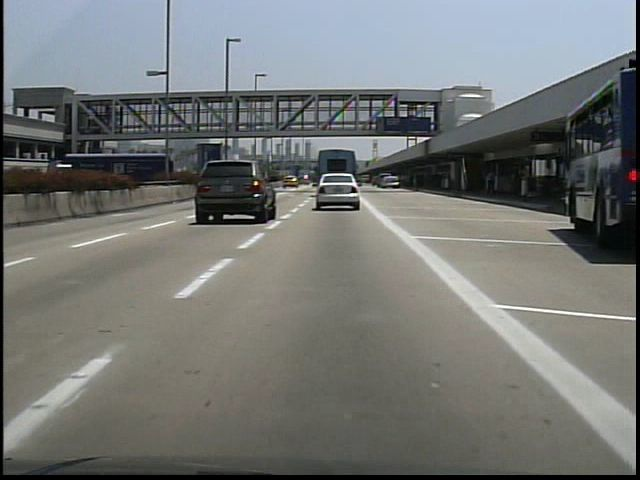person: (482, 165, 502, 202)
